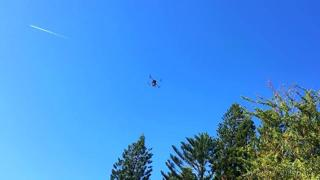UAV: (148, 75, 162, 88)
